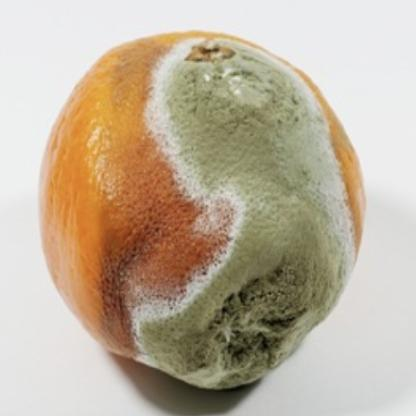rotten: (39, 32, 365, 391)
